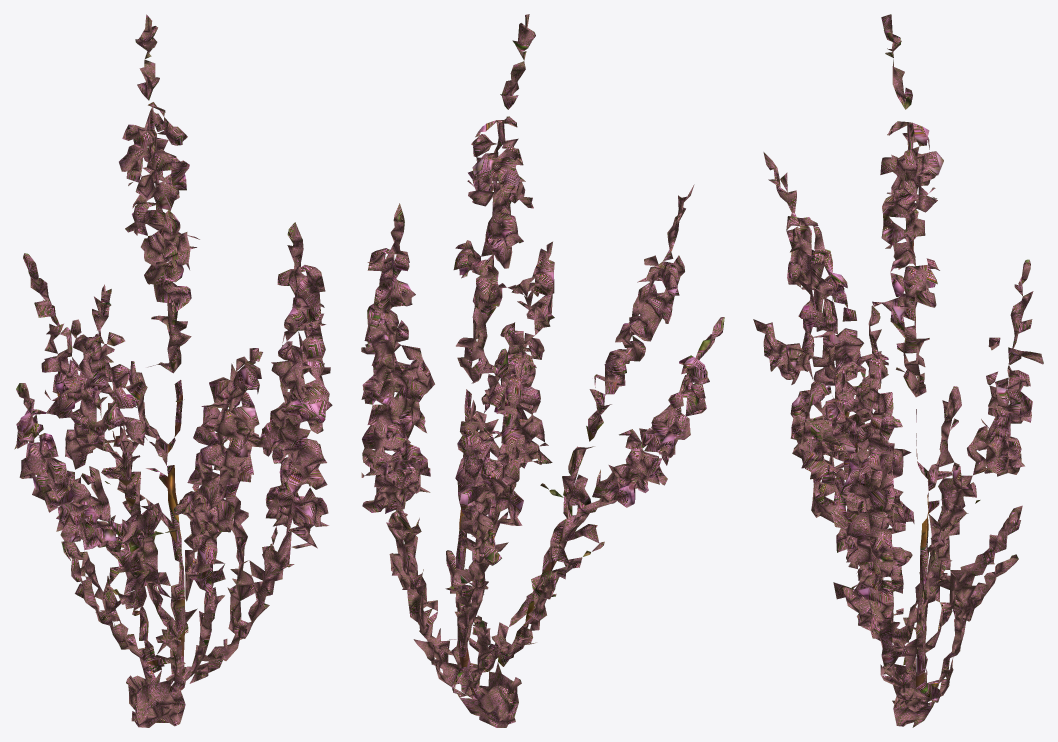
3 renders of one model, left to right at view 1: azimuth 30°, elevation 25°; view 2: azimuth 150°, elevation 25°; view 3: azimuth 270°, elevation 25°, orthographic. The views are drawn at different scales.
Bounding box in the file's own units: 0.9267 × 1.88 × 0.7096.
Materials: 1 (1 with a texture image).
